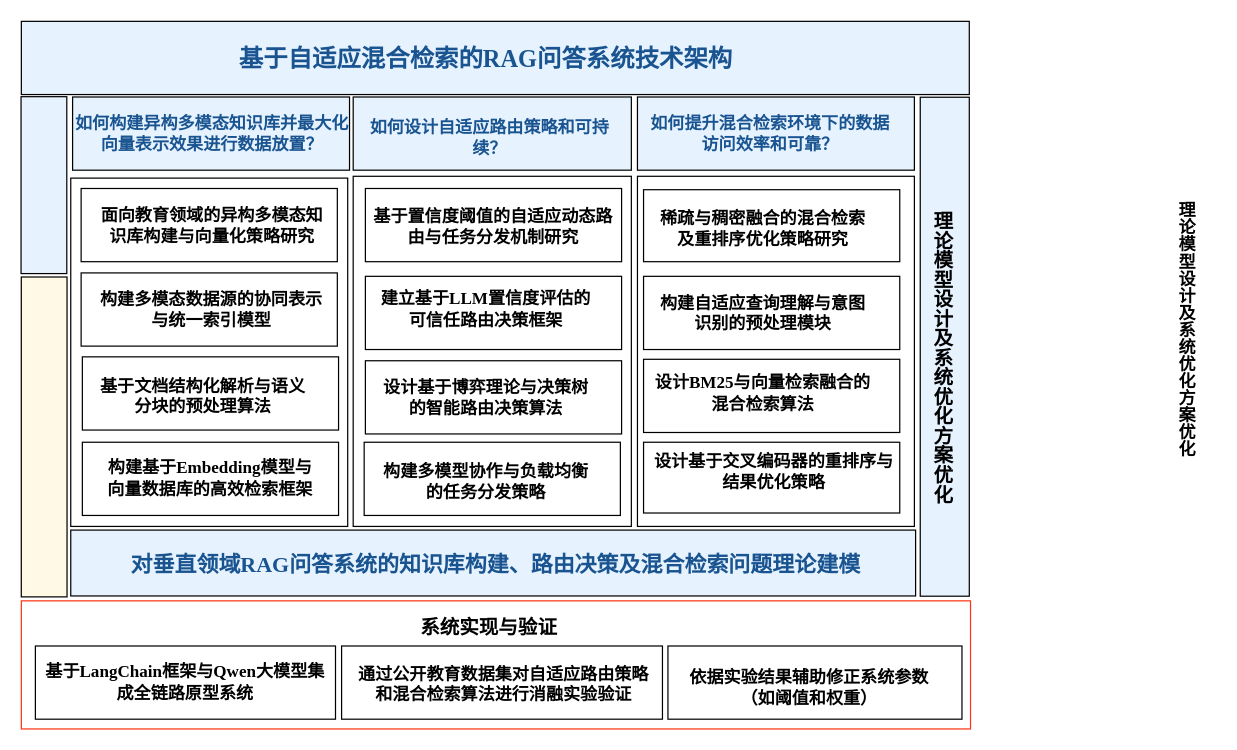
Some shapes in this 1237 by 750 pixel diagram are drawn without their labels. The shapes that lost their labels are listed below. From the top down, each one's box as (x1, y1, x2, y2) in pixels, then its label:
(20, 96, 67, 274): 提炼关键科学问题
(20, 276, 67, 597): 关键技术及算法模型构建
